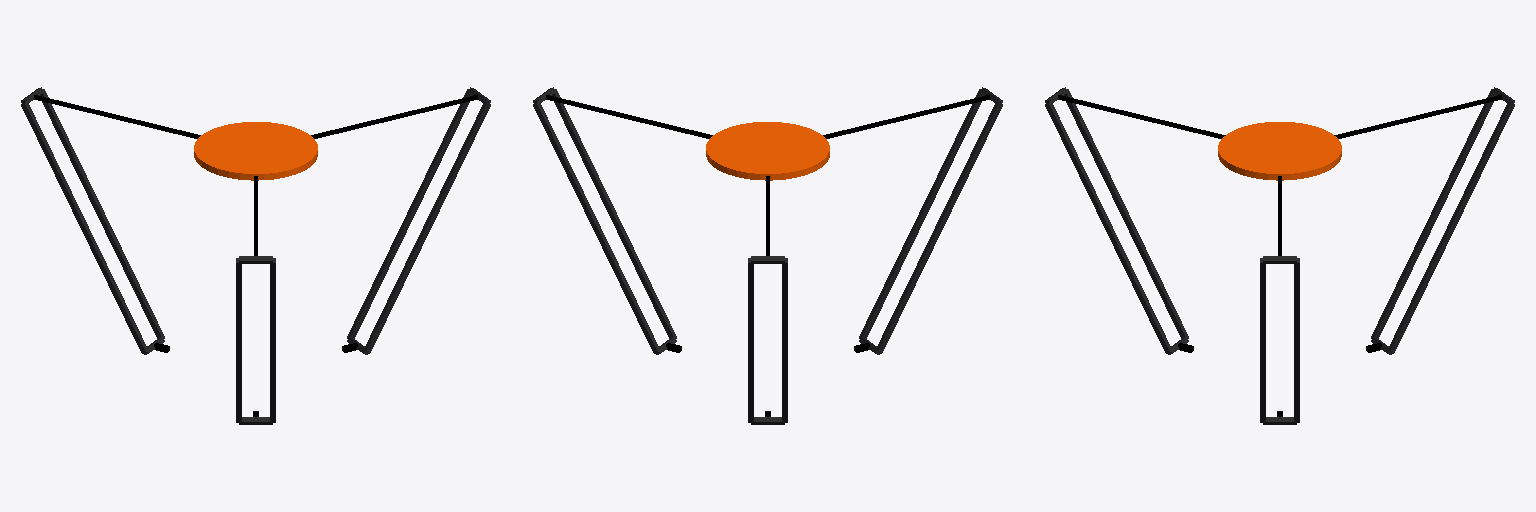
--- Facts derived from the render (not from the file) ---
Views: 3 orthographic renders of the robot side by side, from view 1: azimuth 30°, elevation 25°; view 2: azimuth 150°, elevation 25°; view 3: azimuth 270°, elevation 25°.
Model delta with 26 links and 25 joints (3 revolute, 18 continuous, 4 fixed), rooted at world, posed all joints at 0.
Links seen in each view (by area): view 1: base_link, forearm_3_left_link, forearm_1_right_link, forearm_3_right_link, forearm_1_left_link, forearm_2_right_link, forearm_2_left_link, arm_1_link, arm_3_link; view 2: base_link, forearm_2_right_link, forearm_1_left_link, forearm_2_left_link, forearm_1_right_link, forearm_3_right_link, forearm_3_left_link, arm_1_link, arm_2_link; view 3: base_link, forearm_2_left_link, forearm_3_right_link, forearm_2_right_link, forearm_3_left_link, forearm_1_right_link, forearm_1_left_link, arm_2_link, arm_3_link.
Boxes of the visible links, x1=… form: base_link: x1=194, y1=122, x2=317, y2=180; forearm_3_left_link: x1=21, y1=101, x2=148, y2=353; forearm_1_right_link: x1=365, y1=102, x2=490, y2=353; forearm_3_right_link: x1=40, y1=89, x2=164, y2=338; forearm_1_left_link: x1=347, y1=89, x2=471, y2=338; forearm_2_right_link: x1=236, y1=258, x2=241, y2=422; forearm_2_left_link: x1=270, y1=258, x2=275, y2=422; arm_1_link: x1=311, y1=95, x2=477, y2=138; arm_3_link: x1=34, y1=95, x2=200, y2=138; base_link: x1=706, y1=122, x2=829, y2=180; forearm_2_right_link: x1=875, y1=101, x2=1002, y2=353; forearm_1_left_link: x1=533, y1=102, x2=658, y2=353; forearm_2_left_link: x1=859, y1=89, x2=983, y2=339; forearm_1_right_link: x1=552, y1=89, x2=676, y2=338; forearm_3_right_link: x1=748, y1=258, x2=753, y2=422; forearm_3_left_link: x1=782, y1=258, x2=787, y2=422; arm_1_link: x1=546, y1=95, x2=712, y2=138; arm_2_link: x1=823, y1=95, x2=989, y2=138; base_link: x1=1218, y1=122, x2=1341, y2=180; forearm_2_left_link: x1=1045, y1=101, x2=1172, y2=353; forearm_3_right_link: x1=1388, y1=101, x2=1514, y2=353; forearm_2_right_link: x1=1064, y1=89, x2=1188, y2=339; forearm_3_left_link: x1=1371, y1=89, x2=1495, y2=339; forearm_1_right_link: x1=1260, y1=258, x2=1265, y2=422; forearm_1_left_link: x1=1294, y1=258, x2=1299, y2=422; arm_2_link: x1=1058, y1=95, x2=1225, y2=138; arm_3_link: x1=1334, y1=95, x2=1501, y2=138.
Bounding box of the posed robot: 0.7308 × 0.841 × 0.4467 m (x, y, z).
Geometry: primitives only (box / cylinder / sphere), no mesh files.

URDF robot description (delta):
<?xml version="1.0" ?>
<!-- =================================================================================== -->
<!-- |    This document was autogenerated by xacro from delta.urdf.xacro               | -->
<!-- |    EDITING THIS FILE BY HAND IS NOT RECOMMENDED                                 | -->
<!-- =================================================================================== -->
<robot name="delta">
  <!-- base and end links -->
  <!-- Upper link -->
  <physics type="ode">
    <max_step_size>0.001</max_step_size>
    <real_time_factor>0.1</real_time_factor>
    <real_time_update_rate>1000</real_time_update_rate>
    <gravity>0 0 -9.8</gravity>
  </physics>
  <gazebo>
    <plugin filename="libgazebo_ros2_control.so" name="gazebo_ros2_control">
      <robotNamespace/>
      <robotSimType>gazebo_ros2_control/DefaultRobotHWSim</robotSimType>
    </plugin>
  </gazebo>
  <gazebo reference="base_link">
    <material>Gazebo/Orange</material>
    <selfCollide>false</selfCollide>
  </gazebo>
  <gazebo reference="end_link">
    <material>Gazebo/Orange</material>
    <selfCollide>false</selfCollide>
  </gazebo>
  <transmission name="arm_1_delta_joint_trans">
    <type>transmission_interface/Transmission</type>
    <joint name="arm_1_delta_joint">
      <hardwareInterface>hardware_interface::EffortJoint</hardwareInterface>
    </joint>
    <actuator name="arm_1_delta_joint_motor">
      <hardwareInterface>hardware_interface::EffortJoint</hardwareInterface>
      <mechanicalReduction>1</mechanicalReduction>
    </actuator>
  </transmission>
  <transmission name="arm_2_delta_joint_trans">
    <type>transmission_interface/Transmission</type>
    <joint name="arm_2_delta_joint">
      <hardwareInterface>hardware_interface::EffortJoint</hardwareInterface>
    </joint>
    <actuator name="arm_2_delta_joint_motor">
      <hardwareInterface>hardware_interface::EffortJoint</hardwareInterface>
      <mechanicalReduction>1</mechanicalReduction>
    </actuator>
  </transmission>
  <transmission name="arm_3_delta_joint_trans">
    <type>transmission_interface/Transmission</type>
    <joint name="arm_3_delta_joint">
      <hardwareInterface>hardware_interface::EffortJoint</hardwareInterface>
    </joint>
    <actuator name="arm_3_delta_joint_motor">
      <hardwareInterface>hardware_interface::EffortJoint</hardwareInterface>
      <mechanicalReduction>1</mechanicalReduction>
    </actuator>
  </transmission>
  <!-- Base of the robot -->
  <link name="world"/>
  <joint name="world_base_joint" type="fixed">
    <origin rpy="0.0 0.0 0.0" xyz="1 0.0 0.0"/>
    <parent link="world"/>
    <child link="base_link"/>
  </joint>
  <link name="base_link">
    <visual>
      <origin rpy="0.0 0.0 0.0" xyz="0.0 0.0 0.0"/>
      <geometry>
        <cylinder length="0.0127" radius="0.111"/>
      </geometry>
      <material name="orange">
        <color rgba="1.0 0.4235294117647059 0.0392156862745098 1.0"/>
      </material>
    </visual>
    <collision>
      <origin rpy="0.0 0.0 0.0" xyz="0.0 0.0 0.0"/>
      <geometry>
        <cylinder length="0.0127" radius="0.111"/>
      </geometry>
    </collision>
    <inertial>
      <origin rpy="0.0 0.0 0.0" xyz="0.0 0.0 0.0"/>
      <mass value="12"/>
      <inertia ixx="0.037124290000000004" ixy="0.0" ixz="0.0" iyy="0.037124290000000004" iyz="0.0" izz="0.073926"/>
    </inertial>
  </link>
  <link name="arm_1_link">
    <collision>
      <origin rpy="0 0 0" xyz="0.175 0 0"/>
      <geometry>
        <box size="0.35 0.00635 0.00635"/>
      </geometry>
    </collision>
    <visual>
      <origin rpy="0 0 0" xyz="0.175 0 0"/>
      <geometry>
        <box size="0.35 0.00635 0.00635"/>
      </geometry>
      <material name="black">
        <color rgba="0.0 0.0 0.0 1.0"/>
      </material>
    </visual>
    <inertial>
      <origin rpy="0 0 0" xyz="0 0 0.175"/>
      <mass value="0.02"/>
      <inertia ixx="1.344083333333333e-07" ixy="0.0" ixz="0.0" iyy="0.0002042338708333333" iyz="0.0" izz="0.0002042338708333333"/>
    </inertial>
  </link>
  <joint name="arm_1_joint" type="continuous">
    <parent link="arm_1_link"/>
    <child link="forearm_1_top_link"/>
    <origin rpy="0 0.5235987755982988 0" xyz="0.35 0 0"/>
    <axis xyz="0 1 0"/>
  </joint>
  <link name="forearm_1_top_link">
    <collision>
      <origin rpy="0 0 0" xyz="0 0 0"/>
      <geometry>
        <box size="0.01 0.06 0.01"/>
      </geometry>
    </collision>
    <visual>
      <origin rpy="0 0 0" xyz="0 0 0"/>
      <geometry>
        <box size="0.01 0.06 0.01"/>
      </geometry>
      <material name="grey">
        <color rgba="0.2 0.2 0.2 1.0"/>
      </material>
    </visual>
    <inertial>
      <origin rpy="0 0 0" xyz="0 0 0"/>
      <mass value="0.02"/>
      <inertia ixx="6.1666666666666655e-06" ixy="0.0" ixz="0.0" iyy="3.3333333333333335e-07" iyz="0.0" izz="6.1666666666666655e-06"/>
    </inertial>
  </link>
  <joint name="forearm_1_top_right_joint" type="continuous">
    <parent link="forearm_1_top_link"/>
    <child link="forearm_1_right_link"/>
    <origin rpy="0 0 0" xyz="0 -0.03 0"/>
    <axis xyz="1 0 0"/>
  </joint>
  <link name="forearm_1_right_link">
    <collision>
      <origin rpy="0 0 0" xyz="0 0 -0.25"/>
      <geometry>
        <box size="0.01 0.01 0.5"/>
      </geometry>
    </collision>
    <visual>
      <origin rpy="0 0 0" xyz="0 0 -0.25"/>
      <geometry>
        <box size="0.01 0.01 0.5"/>
      </geometry>
      <material name="grey">
        <color rgba="0.2 0.2 0.2 1.0"/>
      </material>
    </visual>
    <inertial>
      <origin rpy="0 0 0" xyz="0 0 -0.25"/>
      <mass value="0.02"/>
      <inertia ixx="0.0004168333333333333" ixy="0.0" ixz="0.0" iyy="0.0004168333333333333" iyz="0.0" izz="3.3333333333333335e-07"/>
    </inertial>
  </link>
  <joint name="forearm_1_top_left_joint" type="continuous">
    <parent link="forearm_1_top_link"/>
    <child link="forearm_1_left_link"/>
    <origin rpy="0 0 0" xyz="0 0.03 0"/>
    <axis xyz="1 0 0"/>
  </joint>
  <link name="forearm_1_left_link">
    <collision>
      <origin rpy="0 0 0" xyz="0 0 -0.25"/>
      <geometry>
        <box size="0.01 0.01 0.5"/>
      </geometry>
    </collision>
    <visual>
      <origin rpy="0 0 0" xyz="0 0 -0.25"/>
      <geometry>
        <box size="0.01 0.01 0.5"/>
      </geometry>
      <material name="grey">
        <color rgba="0.2 0.2 0.2 1.0"/>
      </material>
    </visual>
    <inertial>
      <origin rpy="0 0 0" xyz="0 0 -0.25"/>
      <mass value="0.02"/>
      <inertia ixx="0.0004168333333333333" ixy="0.0" ixz="0.0" iyy="0.0004168333333333333" iyz="0.0" izz="3.3333333333333335e-07"/>
    </inertial>
  </link>
  <joint name="forearm_1_right_bottom_joint" type="continuous">
    <parent link="forearm_1_right_link"/>
    <child link="forearm_1_bottom_link"/>
    <origin rpy="0 0 0" xyz="0 0 -0.5"/>
    <axis xyz="1 0 0"/>
  </joint>
  <link name="forearm_1_bottom_link">
    <collision>
      <origin rpy="0 0 0" xyz="0 0.03 0"/>
      <geometry>
        <box size="0.01 0.06 0.01"/>
      </geometry>
    </collision>
    <visual>
      <origin rpy="0 0 0" xyz="0 0.03 0"/>
      <geometry>
        <box size="0.01 0.06 0.01"/>
      </geometry>
      <material name="grey">
        <color rgba="0.2 0.2 0.2 1.0"/>
      </material>
    </visual>
    <inertial>
      <origin rpy="0 0 0" xyz="0 0.03 0"/>
      <mass value="0.02"/>
      <inertia ixx="6.1666666666666655e-06" ixy="0.0" ixz="0.0" iyy="3.3333333333333335e-07" iyz="0.0" izz="6.1666666666666655e-06"/>
    </inertial>
  </link>
  <joint name="forearm_1_bottom_end_joint" type="continuous">
    <parent link="forearm_1_bottom_link"/>
    <child link="forearm_1_end_link"/>
    <origin rpy="0 -0.5235987755982988 0" xyz="0 0.03 0"/>
    <axis xyz="0 1 0"/>
  </joint>
  <link name="forearm_1_end_link">
    <collision>
      <origin rpy="0 0 0" xyz="-0.015 0 0"/>
      <geometry>
        <box size="0.03 0.01 0.01"/>
      </geometry>
    </collision>
    <visual>
      <origin rpy="0 0 0" xyz="-0.015 0 0"/>
      <geometry>
        <box size="0.03 0.01 0.01"/>
      </geometry>
      <material name="black">
        <color rgba="0.0 0.0 0.0 1.0"/>
      </material>
    </visual>
    <inertial>
      <origin rpy="0 0 0" xyz="-0.015 0 0"/>
      <mass value="0.02"/>
      <inertia ixx="3.3333333333333335e-07" ixy="0.0" ixz="0.0" iyy="1.6666666666666667e-06" iyz="0.0" izz="1.6666666666666667e-06"/>
    </inertial>
  </link>
  <joint name="forearm_1_bottom_virtual_joint" type="continuous">
    <parent link="forearm_1_bottom_link"/>
    <child link="forearm_1_bottom_virtual_link"/>
    <origin rpy="0 0 0" xyz="0 0.06 0"/>
    <axis xyz="1 0 0"/>
  </joint>
  <link name="forearm_1_bottom_virtual_link">
    <inertial>
      <origin rpy="0 0 0" xyz="0 0 0"/>
      <mass value="0.01"/>
      <inertia ixx="0.001" ixy="0.0" ixz="0.0" iyy="0.001" iyz="0.0" izz="0.001"/>
    </inertial>
  </link>
  <joint name="forearm_1_left_virtual_joint" type="fixed">
    <parent link="forearm_1_left_link"/>
    <child link="forearm_1_left_virtual_link"/>
    <origin rpy="0 0 0" xyz="0 0 -0.5"/>
  </joint>
  <link name="forearm_1_left_virtual_link">
    <inertial>
      <origin rpy="0 0 0" xyz="0 0 0"/>
      <mass value="0.01"/>
      <inertia ixx="0.001" ixy="0.0" ixz="0.0" iyy="0.001" iyz="0.0" izz="0.001"/>
    </inertial>
  </link>
  <gazebo>
    <joint name="forearm_1_left_bottom_joint" type="fixed">
      <parent>forearm_1_left_virtual_link</parent>
      <child>forearm_1_bottom_virtual_link</child>
      <pose> 0 0 0 0 0 0 </pose>
    </joint>
  </gazebo>
  <gazebo reference="arm_1_link">
    <material>Gazebo/Black</material>
    <selfCollide>false</selfCollide>
  </gazebo>
  <gazebo reference="forearm_1_top_link">
    <material>Gazebo/Grey</material>
    <selfCollide>false</selfCollide>
  </gazebo>
  <gazebo reference="forearm_1_right_link">
    <material>Gazebo/Grey</material>
    <selfCollide>false</selfCollide>
  </gazebo>
  <gazebo reference="forearm_1_left_link">
    <material>Gazebo/Grey</material>
    <selfCollide>false</selfCollide>
  </gazebo>
  <gazebo reference="forearm_1_bottom_link">
    <material>Gazebo/Grey</material>
    <selfCollide>false</selfCollide>
  </gazebo>
  <gazebo reference="forearm_1_end_link">
    <material>Gazebo/Black</material>
    <selfCollide>false</selfCollide>
  </gazebo>
  <transmission name="arm_1_joint_trans">
    <type>transmission_interface/Transmission</type>
    <joint name="arm_1_joint">
      <hardwareInterface>hardware_interface::EffortJoint</hardwareInterface>
    </joint>
    <actuator name="arm_1_joint_motor">
      <hardwareInterface>hardware_interface::EffortJoint</hardwareInterface>
      <mechanicalReduction>1</mechanicalReduction>
    </actuator>
  </transmission>
  <transmission name="forearm_1_top_rignt_joint_trans">
    <type>transmission_interface/Transmission</type>
    <joint name="forearm_1_top_rignt_joint">
      <hardwareInterface>hardware_interface::EffortJoint</hardwareInterface>
    </joint>
    <actuator name="forearm_1_top_rignt_joint_motor">
      <hardwareInterface>hardware_interface::EffortJoint</hardwareInterface>
      <mechanicalReduction>1</mechanicalReduction>
    </actuator>
  </transmission>
  <transmission name="forearm_1_top_left_joint_trans">
    <type>transmission_interface/Transmission</type>
    <joint name="forearm_1_top_left_joint">
      <hardwareInterface>hardware_interface::EffortJoint</hardwareInterface>
    </joint>
    <actuator name="forearm_1_top_left_joint_motor">
      <hardwareInterface>hardware_interface::EffortJoint</hardwareInterface>
      <mechanicalReduction>1</mechanicalReduction>
    </actuator>
  </transmission>
  <transmission name="forearm_1_right_bottom_joint_trans">
    <type>transmission_interface/Transmission</type>
    <joint name="forearm_1_right_bottom_joint">
      <hardwareInterface>hardware_interface::EffortJoint</hardwareInterface>
    </joint>
    <actuator name="forearm_1_right_bottom_joint_motor">
      <hardwareInterface>hardware_interface::EffortJoint</hardwareInterface>
      <mechanicalReduction>1</mechanicalReduction>
    </actuator>
  </transmission>
  <transmission name="forearm_1_bottom_end_joint_trans">
    <type>transmission_interface/Transmission</type>
    <joint name="forearm_1_bottom_end_joint">
      <hardwareInterface>hardware_interface::EffortJoint</hardwareInterface>
    </joint>
    <actuator name="forearm_1_bottom_end_joint_motor">
      <hardwareInterface>hardware_interface::EffortJoint</hardwareInterface>
      <mechanicalReduction>1</mechanicalReduction>
    </actuator>
  </transmission>
  <transmission name="forearm_1_bottom_virtual_joint_trans">
    <type>transmission_interface/Transmission</type>
    <joint name="forearm_1_bottom_virtual_joint">
      <hardwareInterface>hardware_interface::EffortJoint</hardwareInterface>
    </joint>
    <actuator name="forearm_1_bottom_virtual_joint_motor">
      <hardwareInterface>hardware_interface::EffortJoint</hardwareInterface>
      <mechanicalReduction>1</mechanicalReduction>
    </actuator>
  </transmission>
  <joint name="arm_1_delta_joint" type="revolute">
    <parent link="base_link"/>
    <child link="arm_1_link"/>
    <origin rpy="0.0 0.0 0.0" xyz="0.111 0.0 0.0"/>
    <axis xyz="0.0 1 0.0"/>
    <dynamics damping="0.7"/>
    <limit effort="6" lower="-0.3490658503988659" upper="1.5707963267948966" velocity="8"/>
  </joint>
  <link name="arm_2_link">
    <collision>
      <origin rpy="0 0 0" xyz="0.175 0 0"/>
      <geometry>
        <box size="0.35 0.00635 0.00635"/>
      </geometry>
    </collision>
    <visual>
      <origin rpy="0 0 0" xyz="0.175 0 0"/>
      <geometry>
        <box size="0.35 0.00635 0.00635"/>
      </geometry>
      <material name="black">
        <color rgba="0.0 0.0 0.0 1.0"/>
      </material>
    </visual>
    <inertial>
      <origin rpy="0 0 0" xyz="0 0 0.175"/>
      <mass value="0.02"/>
      <inertia ixx="1.344083333333333e-07" ixy="0.0" ixz="0.0" iyy="0.0002042338708333333" iyz="0.0" izz="0.0002042338708333333"/>
    </inertial>
  </link>
  <joint name="arm_2_joint" type="continuous">
    <parent link="arm_2_link"/>
    <child link="forearm_2_top_link"/>
    <origin rpy="0 0.5235987755982988 0" xyz="0.35 0 0"/>
    <axis xyz="0 1 0"/>
  </joint>
  <link name="forearm_2_top_link">
    <collision>
      <origin rpy="0 0 0" xyz="0 0 0"/>
      <geometry>
        <box size="0.01 0.06 0.01"/>
      </geometry>
    </collision>
    <visual>
      <origin rpy="0 0 0" xyz="0 0 0"/>
      <geometry>
        <box size="0.01 0.06 0.01"/>
      </geometry>
      <material name="grey">
        <color rgba="0.2 0.2 0.2 1.0"/>
      </material>
    </visual>
    <inertial>
      <origin rpy="0 0 0" xyz="0 0 0"/>
      <mass value="0.02"/>
      <inertia ixx="6.1666666666666655e-06" ixy="0.0" ixz="0.0" iyy="3.3333333333333335e-07" iyz="0.0" izz="6.1666666666666655e-06"/>
    </inertial>
  </link>
  <joint name="forearm_2_top_right_joint" type="continuous">
    <parent link="forearm_2_top_link"/>
    <child link="forearm_2_right_link"/>
    <origin rpy="0 0 0" xyz="0 -0.03 0"/>
    <axis xyz="1 0 0"/>
  </joint>
  <link name="forearm_2_right_link">
    <collision>
      <origin rpy="0 0 0" xyz="0 0 -0.25"/>
      <geometry>
        <box size="0.01 0.01 0.5"/>
      </geometry>
    </collision>
    <visual>
      <origin rpy="0 0 0" xyz="0 0 -0.25"/>
      <geometry>
        <box size="0.01 0.01 0.5"/>
      </geometry>
      <material name="grey">
        <color rgba="0.2 0.2 0.2 1.0"/>
      </material>
    </visual>
    <inertial>
      <origin rpy="0 0 0" xyz="0 0 -0.25"/>
      <mass value="0.02"/>
      <inertia ixx="0.0004168333333333333" ixy="0.0" ixz="0.0" iyy="0.0004168333333333333" iyz="0.0" izz="3.3333333333333335e-07"/>
    </inertial>
  </link>
  <joint name="forearm_2_top_left_joint" type="continuous">
    <parent link="forearm_2_top_link"/>
    <child link="forearm_2_left_link"/>
    <origin rpy="0 0 0" xyz="0 0.03 0"/>
    <axis xyz="1 0 0"/>
  </joint>
  <link name="forearm_2_left_link">
    <collision>
      <origin rpy="0 0 0" xyz="0 0 -0.25"/>
      <geometry>
        <box size="0.01 0.01 0.5"/>
      </geometry>
    </collision>
    <visual>
      <origin rpy="0 0 0" xyz="0 0 -0.25"/>
      <geometry>
        <box size="0.01 0.01 0.5"/>
      </geometry>
      <material name="grey">
        <color rgba="0.2 0.2 0.2 1.0"/>
      </material>
    </visual>
    <inertial>
      <origin rpy="0 0 0" xyz="0 0 -0.25"/>
      <mass value="0.02"/>
      <inertia ixx="0.0004168333333333333" ixy="0.0" ixz="0.0" iyy="0.0004168333333333333" iyz="0.0" izz="3.3333333333333335e-07"/>
    </inertial>
  </link>
  <joint name="forearm_2_right_bottom_joint" type="continuous">
    <parent link="forearm_2_right_link"/>
    <child link="forearm_2_bottom_link"/>
    <origin rpy="0 0 0" xyz="0 0 -0.5"/>
    <axis xyz="1 0 0"/>
  </joint>
  <link name="forearm_2_bottom_link">
    <collision>
      <origin rpy="0 0 0" xyz="0 0.03 0"/>
      <geometry>
        <box size="0.01 0.06 0.01"/>
      </geometry>
    </collision>
    <visual>
      <origin rpy="0 0 0" xyz="0 0.03 0"/>
      <geometry>
        <box size="0.01 0.06 0.01"/>
      </geometry>
      <material name="grey">
        <color rgba="0.2 0.2 0.2 1.0"/>
      </material>
    </visual>
    <inertial>
      <origin rpy="0 0 0" xyz="0 0.03 0"/>
      <mass value="0.02"/>
      <inertia ixx="6.1666666666666655e-06" ixy="0.0" ixz="0.0" iyy="3.3333333333333335e-07" iyz="0.0" izz="6.1666666666666655e-06"/>
    </inertial>
  </link>
  <joint name="forearm_2_bottom_end_joint" type="continuous">
    <parent link="forearm_2_bottom_link"/>
    <child link="forearm_2_end_link"/>
    <origin rpy="0 -0.5235987755982988 0" xyz="0 0.03 0"/>
    <axis xyz="0 1 0"/>
  </joint>
  <link name="forearm_2_end_link">
    <collision>
      <origin rpy="0 0 0" xyz="-0.015 0 0"/>
      <geometry>
        <box size="0.03 0.01 0.01"/>
      </geometry>
    </collision>
    <visual>
      <origin rpy="0 0 0" xyz="-0.015 0 0"/>
      <geometry>
        <box size="0.03 0.01 0.01"/>
      </geometry>
      <material name="black">
        <color rgba="0.0 0.0 0.0 1.0"/>
      </material>
    </visual>
    <inertial>
      <origin rpy="0 0 0" xyz="-0.015 0 0"/>
      <mass value="0.02"/>
      <inertia ixx="3.3333333333333335e-07" ixy="0.0" ixz="0.0" iyy="1.6666666666666667e-06" iyz="0.0" izz="1.6666666666666667e-06"/>
    </inertial>
  </link>
  <joint name="forearm_2_bottom_virtual_joint" type="continuous">
    <parent link="forearm_2_bottom_link"/>
    <child link="forearm_2_bottom_virtual_link"/>
    <origin rpy="0 0 0" xyz="0 0.06 0"/>
    <axis xyz="1 0 0"/>
  </joint>
  <link name="forearm_2_bottom_virtual_link">
    <inertial>
      <origin rpy="0 0 0" xyz="0 0 0"/>
      <mass value="0.01"/>
      <inertia ixx="0.001" ixy="0.0" ixz="0.0" iyy="0.001" iyz="0.0" izz="0.001"/>
    </inertial>
  </link>
  <joint name="forearm_2_left_virtual_joint" type="fixed">
    <parent link="forearm_2_left_link"/>
    <child link="forearm_2_left_virtual_link"/>
    <origin rpy="0 0 0" xyz="0 0 -0.5"/>
  </joint>
  <link name="forearm_2_left_virtual_link">
    <inertial>
      <origin rpy="0 0 0" xyz="0 0 0"/>
      <mass value="0.01"/>
      <inertia ixx="0.001" ixy="0.0" ixz="0.0" iyy="0.001" iyz="0.0" izz="0.001"/>
    </inertial>
  </link>
  <gazebo>
    <joint name="forearm_2_left_bottom_joint" type="fixed">
      <parent>forearm_2_left_virtual_link</parent>
      <child>forearm_2_bottom_virtual_link</child>
      <pose> 0 0 0 0 0 0 </pose>
    </joint>
  </gazebo>
  <gazebo reference="arm_2_link">
    <material>Gazebo/Black</material>
    <selfCollide>false</selfCollide>
  </gazebo>
  <gazebo reference="forearm_2_top_link">
    <material>Gazebo/Grey</material>
    <selfCollide>false</selfCollide>
  </gazebo>
  <gazebo reference="forearm_2_right_link">
    <material>Gazebo/Grey</material>
    <selfCollide>false</selfCollide>
  </gazebo>
  <gazebo reference="forearm_2_left_link">
    <material>Gazebo/Grey</material>
    <selfCollide>false</selfCollide>
  </gazebo>
  <gazebo reference="forearm_2_bottom_link">
    <material>Gazebo/Grey</material>
    <selfCollide>false</selfCollide>
  </gazebo>
  <gazebo reference="forearm_2_end_link">
    <material>Gazebo/Black</material>
    <selfCollide>false</selfCollide>
  </gazebo>
  <transmission name="arm_2_joint_trans">
    <type>transmission_interface/Transmission</type>
    <joint name="arm_2_joint">
      <hardwareInterface>hardware_interface::EffortJoint</hardwareInterface>
    </joint>
    <actuator name="arm_2_joint_motor">
      <hardwareInterface>hardware_interface::EffortJoint</hardwareInterface>
      <mechanicalReduction>1</mechanicalReduction>
    </actuator>
  </transmission>
  <transmission name="forearm_2_top_rignt_joint_trans">
    <type>transmission_interface/Transmission</type>
    <joint name="forearm_2_top_rignt_joint">
      <hardwareInterface>hardware_interface::EffortJoint</hardwareInterface>
    </joint>
    <actuator name="forearm_2_top_rignt_joint_motor">
      <hardwareInterface>hardware_interface::EffortJoint</hardwareInterface>
      <mechanicalReduction>1</mechanicalReduction>
    </actuator>
  </transmission>
  <transmission name="forearm_2_top_left_joint_trans">
    <type>transmission_interface/Transmission</type>
    <joint name="forearm_2_top_left_joint">
      <hardwareInterface>hardware_interface::EffortJoint</hardwareInterface>
    </joint>
    <actuator name="forearm_2_top_left_joint_motor">
      <hardwareInterface>hardware_interface::EffortJoint</hardwareInterface>
      <mechanicalReduction>1</mechanicalReduction>
    </actuator>
  </transmission>
  <transmission name="forearm_2_right_bottom_joint_trans">
    <type>transmission_interface/Transmission</type>
    <joint name="forearm_2_right_bottom_joint">
      <hardwareInterface>hardware_interface::EffortJoint</hardwareInterface>
    </joint>
    <actuator name="forearm_2_right_bottom_joint_motor">
      <hardwareInterface>hardware_interface::EffortJoint</hardwareInterface>
      <mechanicalReduction>1</mechanicalReduction>
    </actuator>
  </transmission>
  <transmission name="forearm_2_bottom_end_joint_trans">
    <type>transmission_interface/Transmission</type>
    <joint name="forearm_2_bottom_end_joint">
      <hardwareInterface>hardware_interface::EffortJoint</hardwareInterface>
    </joint>
    <actuator name="forearm_2_bottom_end_joint_motor">
      <hardwareInterface>hardware_interface::EffortJoint</hardwareInterface>
      <mechanicalReduction>1</mechanicalReduction>
    </actuator>
  </transmission>
  <transmission name="forearm_2_bottom_virtual_joint_trans">
    <type>transmission_interface/Transmission</type>
    <joint name="forearm_2_bottom_virtual_joint">
      <hardwareInterface>hardware_interface::EffortJoint</hardwareInterface>
    </joint>
    <actuator name="forearm_2_bottom_virtual_joint_motor">
      <hardwareInterface>hardware_interface::EffortJoint</hardwareInterface>
      <mechanicalReduction>1</mechanicalReduction>
    </actuator>
  </transmission>
  <joint name="arm_2_delta_joint" type="revolute">
    <parent link="base_link"/>
    <child link="arm_2_link"/>
    <origin rpy="0.0 0.0 -2.0943951023931953" xyz="-0.0555 -0.09612 0.0"/>
    <axis xyz="0.0 1 0.0"/>
    <dynamics damping="0.7"/>
    <limit effort="6" lower="-0.3490658503988659" upper="1.5707963267948966" velocity="8"/>
  </joint>
  <link name="arm_3_link">
    <collision>
      <origin rpy="0 0 0" xyz="0.175 0 0"/>
      <geometry>
        <box size="0.35 0.00635 0.00635"/>
      </geometry>
    </collision>
    <visual>
      <origin rpy="0 0 0" xyz="0.175 0 0"/>
      <geometry>
        <box size="0.35 0.00635 0.00635"/>
      </geometry>
      <material name="black">
        <color rgba="0.0 0.0 0.0 1.0"/>
      </material>
    </visual>
    <inertial>
      <origin rpy="0 0 0" xyz="0 0 0.175"/>
      <mass value="0.02"/>
      <inertia ixx="1.344083333333333e-07" ixy="0.0" ixz="0.0" iyy="0.0002042338708333333" iyz="0.0" izz="0.0002042338708333333"/>
    </inertial>
  </link>
  <joint name="arm_3_joint" type="continuous">
    <parent link="arm_3_link"/>
    <child link="forearm_3_top_link"/>
    <origin rpy="0 0.5235987755982988 0" xyz="0.35 0 0"/>
    <axis xyz="0 1 0"/>
  </joint>
  <link name="forearm_3_top_link">
    <collision>
      <origin rpy="0 0 0" xyz="0 0 0"/>
      <geometry>
        <box size="0.01 0.06 0.01"/>
      </geometry>
    </collision>
    <visual>
      <origin rpy="0 0 0" xyz="0 0 0"/>
      <geometry>
        <box size="0.01 0.06 0.01"/>
      </geometry>
      <material name="grey">
        <color rgba="0.2 0.2 0.2 1.0"/>
      </material>
    </visual>
    <inertial>
      <origin rpy="0 0 0" xyz="0 0 0"/>
      <mass value="0.02"/>
      <inertia ixx="6.1666666666666655e-06" ixy="0.0" ixz="0.0" iyy="3.3333333333333335e-07" iyz="0.0" izz="6.1666666666666655e-06"/>
    </inertial>
  </link>
  <joint name="forearm_3_top_right_joint" type="continuous">
    <parent link="forearm_3_top_link"/>
    <child link="forearm_3_right_link"/>
    <origin rpy="0 0 0" xyz="0 -0.03 0"/>
    <axis xyz="1 0 0"/>
  </joint>
  <link name="forearm_3_right_link">
    <collision>
      <origin rpy="0 0 0" xyz="0 0 -0.25"/>
      <geometry>
        <box size="0.01 0.01 0.5"/>
      </geometry>
    </collision>
    <visual>
      <origin rpy="0 0 0" xyz="0 0 -0.25"/>
      <geometry>
        <box size="0.01 0.01 0.5"/>
      </geometry>
      <material name="grey">
        <color rgba="0.2 0.2 0.2 1.0"/>
      </material>
    </visual>
    <inertial>
      <origin rpy="0 0 0" xyz="0 0 -0.25"/>
      <mass value="0.02"/>
      <inertia ixx="0.0004168333333333333" ixy="0.0" ixz="0.0" iyy="0.0004168333333333333" iyz="0.0" izz="3.3333333333333335e-07"/>
    </inertial>
  </link>
  <joint name="forearm_3_top_left_joint" type="continuous">
    <parent link="forearm_3_top_link"/>
    <child link="forearm_3_left_link"/>
    <origin rpy="0 0 0" xyz="0 0.03 0"/>
    <axis xyz="1 0 0"/>
  </joint>
  <link name="forearm_3_left_link">
    <collision>
      <origin rpy="0 0 0" xyz="0 0 -0.25"/>
      <geometry>
        <box size="0.01 0.01 0.5"/>
      </geometry>
    </collision>
    <visual>
      <origin rpy="0 0 0" xyz="0 0 -0.25"/>
      <geometry>
        <box size="0.01 0.01 0.5"/>
      </geometry>
      <material name="grey">
        <color rgba="0.2 0.2 0.2 1.0"/>
      </material>
    </visual>
    <inertial>
      <origin rpy="0 0 0" xyz="0 0 -0.25"/>
      <mass value="0.02"/>
      <inertia ixx="0.0004168333333333333" ixy="0.0" ixz="0.0" iyy="0.0004168333333333333" iyz="0.0" izz="3.3333333333333335e-07"/>
    </inertial>
  </link>
  <joint name="forearm_3_right_bottom_joint" type="continuous">
    <parent link="forearm_3_right_link"/>
    <child link="forearm_3_bottom_link"/>
    <origin rpy="0 0 0" xyz="0 0 -0.5"/>
    <axis xyz="1 0 0"/>
  </joint>
  <link name="forearm_3_bottom_link">
    <collision>
      <origin rpy="0 0 0" xyz="0 0.03 0"/>
      <geometry>
        <box size="0.01 0.06 0.01"/>
      </geometry>
    </collision>
    <visual>
      <origin rpy="0 0 0" xyz="0 0.03 0"/>
      <geometry>
        <box size="0.01 0.06 0.01"/>
      </geometry>
      <material name="grey">
        <color rgba="0.2 0.2 0.2 1.0"/>
      </material>
    </visual>
    <inertial>
      <origin rpy="0 0 0" xyz="0 0.03 0"/>
      <mass value="0.02"/>
      <inertia ixx="6.1666666666666655e-06" ixy="0.0" ixz="0.0" iyy="3.3333333333333335e-07" iyz="0.0" izz="6.1666666666666655e-06"/>
    </inertial>
  </link>
  <joint name="forearm_3_bottom_end_joint" type="continuous">
    <parent link="forearm_3_bottom_link"/>
    <child link="forearm_3_end_link"/>
    <origin rpy="0 -0.5235987755982988 0" xyz="0 0.03 0"/>
    <axis xyz="0 1 0"/>
  </joint>
  <link name="forearm_3_end_link">
    <collision>
      <origin rpy="0 0 0" xyz="-0.015 0 0"/>
      <geometry>
        <box size="0.03 0.01 0.01"/>
      </geometry>
    </collision>
    <visual>
      <origin rpy="0 0 0" xyz="-0.015 0 0"/>
      <geometry>
        <box size="0.03 0.01 0.01"/>
      </geometry>
      <material name="black">
        <color rgba="0.0 0.0 0.0 1.0"/>
      </material>
    </visual>
    <inertial>
      <origin rpy="0 0 0" xyz="-0.015 0 0"/>
      <mass value="0.02"/>
      <inertia ixx="3.3333333333333335e-07" ixy="0.0" ixz="0.0" iyy="1.6666666666666667e-06" iyz="0.0" izz="1.6666666666666667e-06"/>
    </inertial>
  </link>
  <joint name="forearm_3_bottom_virtual_joint" type="continuous">
    <parent link="forearm_3_bottom_link"/>
    <child link="forearm_3_bottom_virtual_link"/>
    <origin rpy="0 0 0" xyz="0 0.06 0"/>
    <axis xyz="1 0 0"/>
  </joint>
  <link name="forearm_3_bottom_virtual_link">
    <inertial>
      <origin rpy="0 0 0" xyz="0 0 0"/>
      <mass value="0.01"/>
      <inertia ixx="0.001" ixy="0.0" ixz="0.0" iyy="0.001" iyz="0.0" izz="0.001"/>
    </inertial>
  </link>
  <joint name="forearm_3_left_virtual_joint" type="fixed">
    <parent link="forearm_3_left_link"/>
    <child link="forearm_3_left_virtual_link"/>
    <origin rpy="0 0 0" xyz="0 0 -0.5"/>
  </joint>
  <link name="forearm_3_left_virtual_link">
    <inertial>
      <origin rpy="0 0 0" xyz="0 0 0"/>
      <mass value="0.01"/>
      <inertia ixx="0.001" ixy="0.0" ixz="0.0" iyy="0.001" iyz="0.0" izz="0.001"/>
    </inertial>
  </link>
  <gazebo>
    <joint name="forearm_3_left_bottom_joint" type="fixed">
      <parent>forearm_3_left_virtual_link</parent>
      <child>forearm_3_bottom_virtual_link</child>
      <pose> 0 0 0 0 0 0 </pose>
    </joint>
  </gazebo>
  <gazebo reference="arm_3_link">
    <material>Gazebo/Black</material>
    <selfCollide>false</selfCollide>
  </gazebo>
  <gazebo reference="forearm_3_top_link">
    <material>Gazebo/Grey</material>
    <selfCollide>false</selfCollide>
  </gazebo>
  <gazebo reference="forearm_3_right_link">
    <material>Gazebo/Grey</material>
    <selfCollide>false</selfCollide>
  </gazebo>
  <gazebo reference="forearm_3_left_link">
    <material>Gazebo/Grey</material>
    <selfCollide>false</selfCollide>
  </gazebo>
  <gazebo reference="forearm_3_bottom_link">
    <material>Gazebo/Grey</material>
    <selfCollide>false</selfCollide>
  </gazebo>
  <gazebo reference="forearm_3_end_link">
    <material>Gazebo/Black</material>
    <selfCollide>false</selfCollide>
  </gazebo>
  <transmission name="arm_3_joint_trans">
    <type>transmission_interface/Transmission</type>
    <joint name="arm_3_joint">
      <hardwareInterface>hardware_interface::EffortJoint</hardwareInterface>
    </joint>
    <actuator name="arm_3_joint_motor">
      <hardwareInterface>hardware_interface::EffortJoint</hardwareInterface>
      <mechanicalReduction>1</mechanicalReduction>
    </actuator>
  </transmission>
  <transmission name="forearm_3_top_rignt_joint_trans">
    <type>transmission_interface/Transmission</type>
    <joint name="forearm_3_top_rignt_joint">
      <hardwareInterface>hardware_interface::EffortJoint</hardwareInterface>
    </joint>
    <actuator name="forearm_3_top_rignt_joint_motor">
      <hardwareInterface>hardware_interface::EffortJoint</hardwareInterface>
      <mechanicalReduction>1</mechanicalReduction>
    </actuator>
  </transmission>
  <transmission name="forearm_3_top_left_joint_trans">
    <type>transmission_interface/Transmission</type>
    <joint name="forearm_3_top_left_joint">
      <hardwareInterface>hardware_interface::EffortJoint</hardwareInterface>
    </joint>
    <actuator name="forearm_3_top_left_joint_motor">
      <hardwareInterface>hardware_interface::EffortJoint</hardwareInterface>
      <mechanicalReduction>1</mechanicalReduction>
    </actuator>
  </transmission>
  <transmission name="forearm_3_right_bottom_joint_trans">
    <type>transmission_interface/Transmission</type>
    <joint name="forearm_3_right_bottom_joint">
      <hardwareInterface>hardware_interface::EffortJoint</hardwareInterface>
    </joint>
    <actuator name="forearm_3_right_bottom_joint_motor">
      <hardwareInterface>hardware_interface::EffortJoint</hardwareInterface>
      <mechanicalReduction>1</mechanicalReduction>
    </actuator>
  </transmission>
  <transmission name="forearm_3_bottom_end_joint_trans">
    <type>transmission_interface/Transmission</type>
    <joint name="forearm_3_bottom_end_joint">
      <hardwareInterface>hardware_interface::EffortJoint</hardwareInterface>
    </joint>
    <actuator name="forearm_3_bottom_end_joint_motor">
      <hardwareInterface>hardware_interface::EffortJoint</hardwareInterface>
      <mechanicalReduction>1</mechanicalReduction>
    </actuator>
  </transmission>
  <transmission name="forearm_3_bottom_virtual_joint_trans">
    <type>transmission_interface/Transmission</type>
    <joint name="forearm_3_bottom_virtual_joint">
      <hardwareInterface>hardware_interface::EffortJoint</hardwareInterface>
    </joint>
    <actuator name="forearm_3_bottom_virtual_joint_motor">
      <hardwareInterface>hardware_interface::EffortJoint</hardwareInterface>
      <mechanicalReduction>1</mechanicalReduction>
    </actuator>
  </transmission>
  <joint name="arm_3_delta_joint" type="revolute">
    <parent link="base_link"/>
    <child link="arm_3_link"/>
    <origin rpy="0.0 0.0 2.0943951023931953" xyz="-0.0555 0.09612 0.0"/>
    <axis xyz="0.0 1 0.0"/>
    <dynamics damping="0.7"/>
    <limit effort="6" lower="-0.3490658503988659" upper="1.5707963267948966" velocity="8"/>
  </joint>
</robot>
